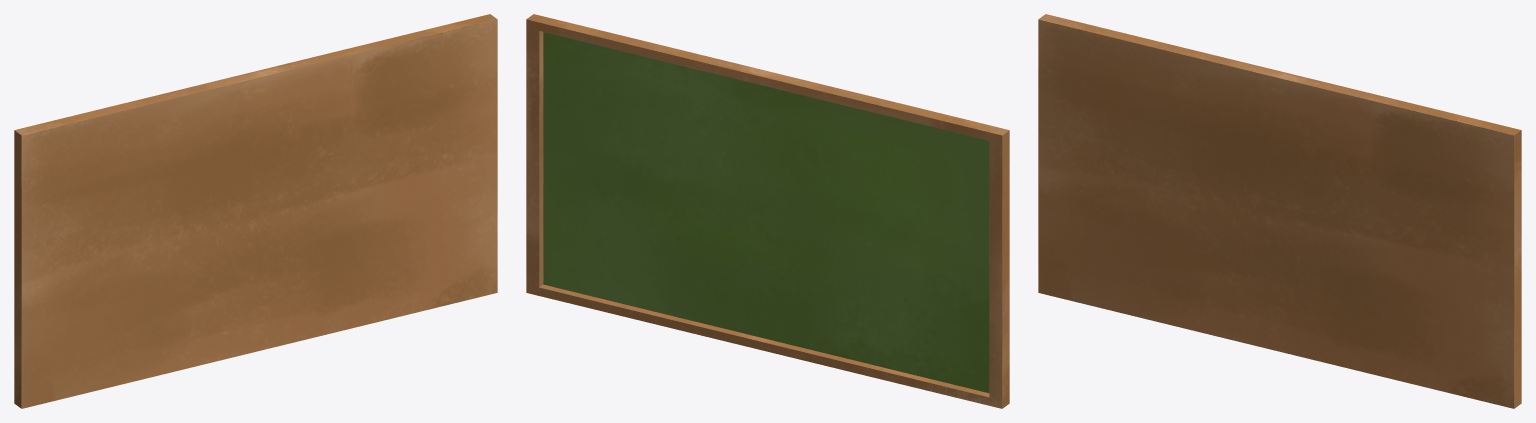
Rendered from M_PizarronHorizontal.fbx.
3 renders of one model, left to right at view 1: azimuth 30°, elevation 25°; view 2: azimuth 150°, elevation 25°; view 3: azimuth 330°, elevation 25°, orthographic.
Visible parts, largest first — view 1: Pizarron_horizontal; view 2: Pizarron_horizontal; view 3: Pizarron_horizontal.
Boxes of the visible parts, left/top/right/bottom form: Pizarron_horizontal: left=14, top=14, right=497, bottom=408; Pizarron_horizontal: left=526, top=14, right=1009, bottom=408; Pizarron_horizontal: left=1038, top=14, right=1521, bottom=408.
Bounding box in the file's own units: 19.46 × 10.69 × 0.5209.
